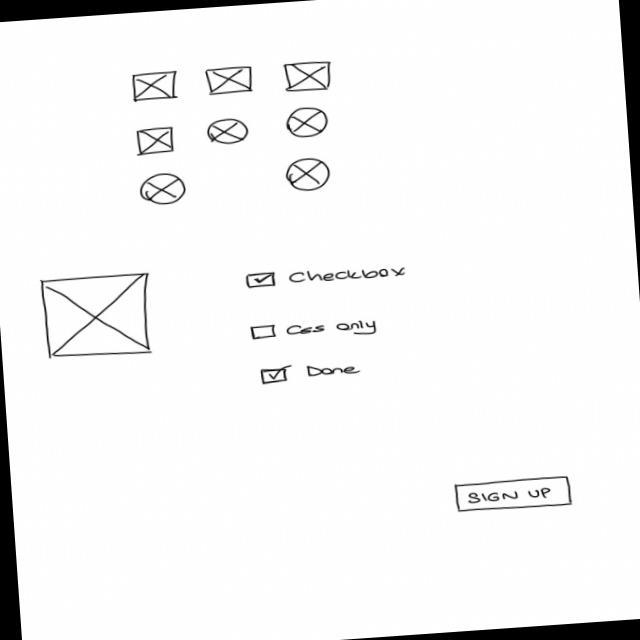button: (454, 475, 574, 514)
checkbox: (244, 262, 412, 291), (250, 315, 383, 347), (259, 359, 363, 387)
image: (39, 272, 156, 363), (285, 156, 333, 194), (138, 171, 188, 207), (283, 61, 333, 94), (131, 71, 181, 103), (205, 66, 255, 97), (286, 106, 330, 139), (135, 126, 178, 158), (207, 118, 249, 148)
